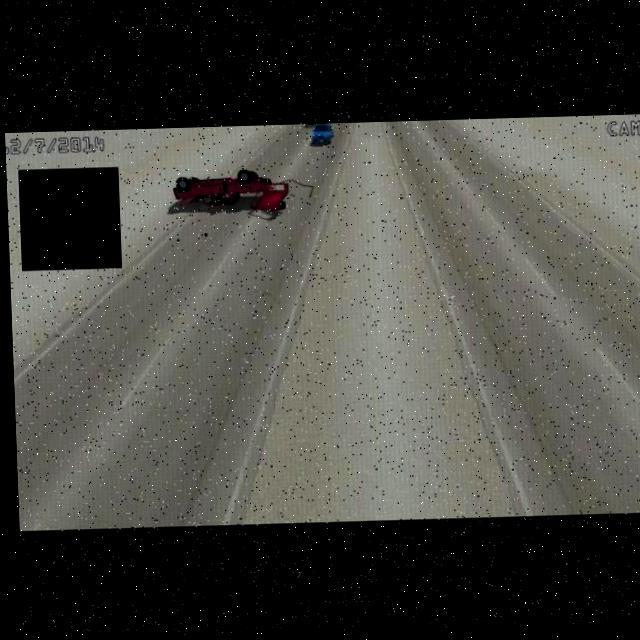single accident: (152, 136, 301, 240)
